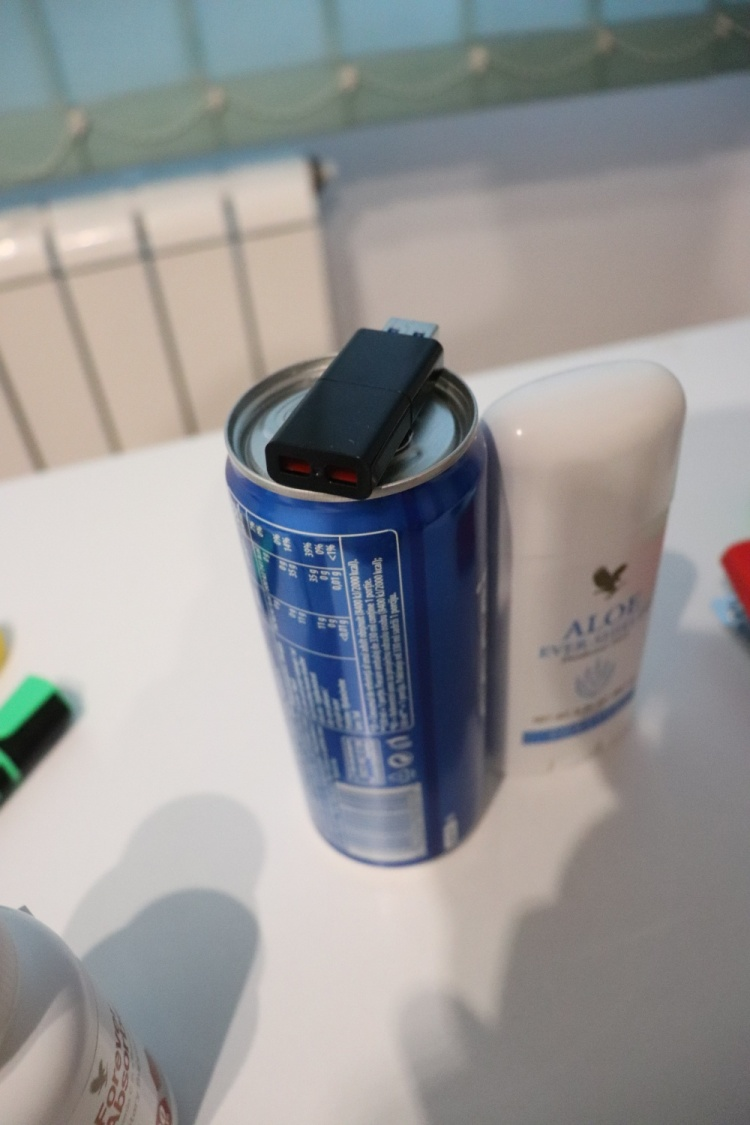pepsi: (219, 474, 500, 884)
